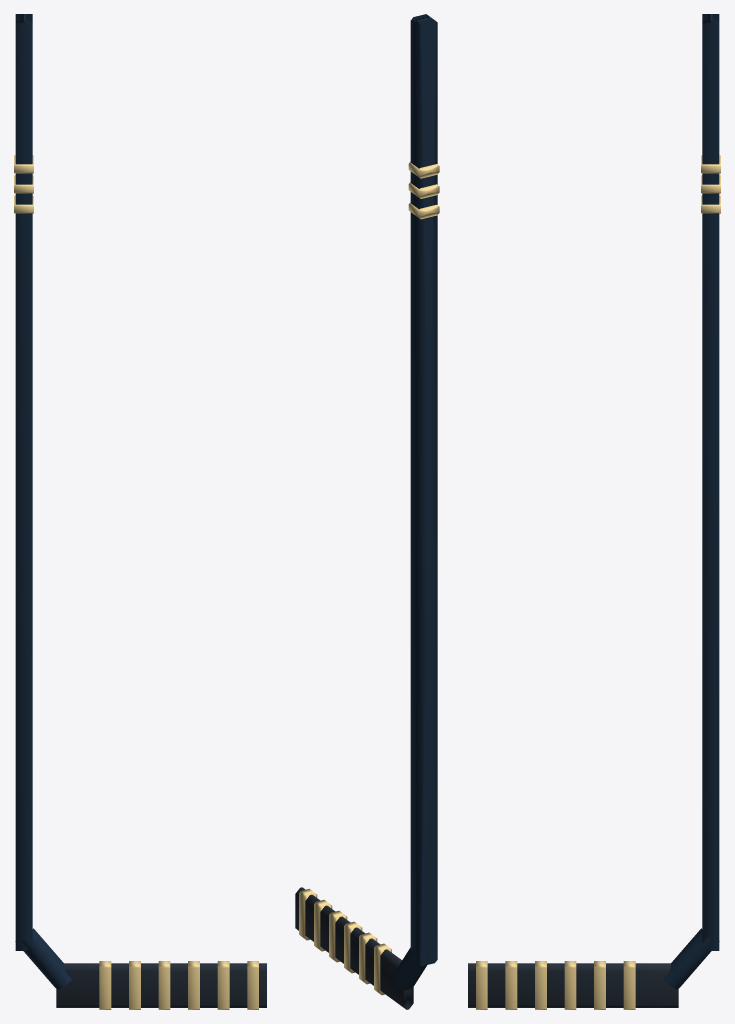
Rendered from stick.glb.
3 views of the same model, side by side, from view 1: azimuth 90°, elevation 25°; view 2: azimuth 210°, elevation 25°; view 3: azimuth 270°, elevation 25° (orthographic).
Parts seen in each view (by area): view 1: Stick; view 2: Stick; view 3: Stick.
Boxes of the visible parts, x1,y1,x2,y2 form: Stick: [14, 14, 266, 1009]; Stick: [295, 14, 439, 1009]; Stick: [468, 14, 720, 1009].
Bounding box in the file's own units: 0.032 × 1.48 × 0.342.
